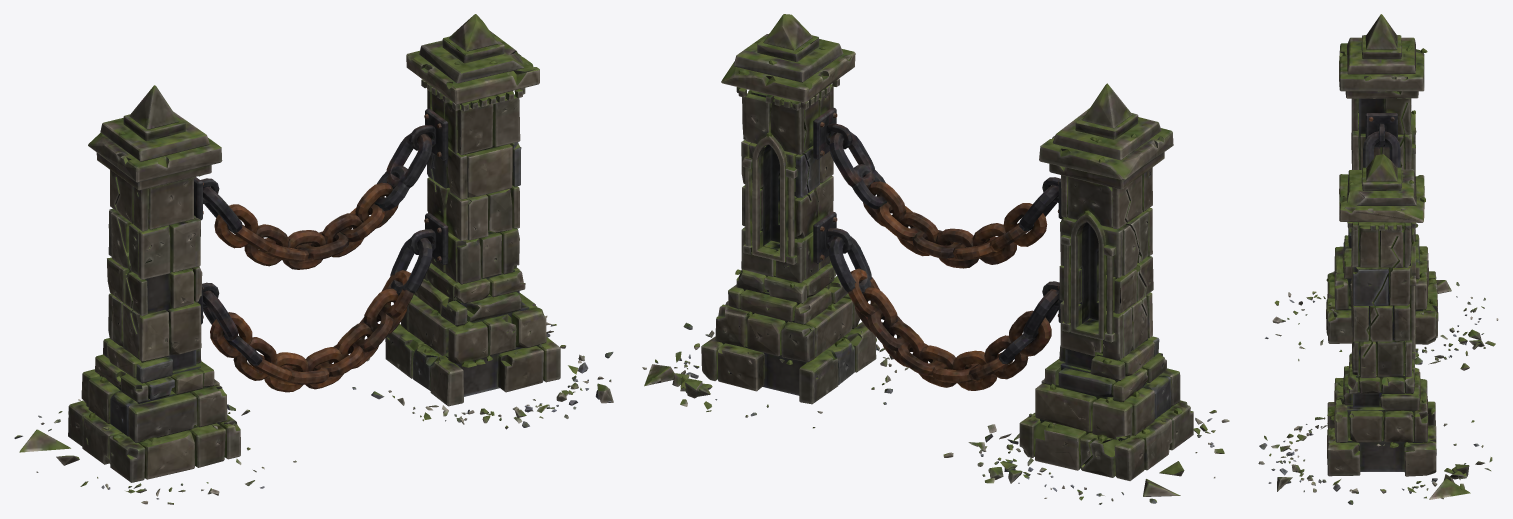
The model's file is SM_Cripta_ColunaCorrente.glb.
The picture shows the model from 3 angles, left to right: view 1: azimuth 30°, elevation 25°; view 2: azimuth 150°, elevation 25°; view 3: azimuth 270°, elevation 25°; orthographic projection. The views are drawn at different scales.
Visible parts, largest first — view 1: SM_Cripta_ColunaCorrente; view 2: SM_Cripta_ColunaCorrente; view 3: SM_Cripta_ColunaCorrente.
Boxes of the visible parts, x1,y1,x2,y2 form: SM_Cripta_ColunaCorrente: [14, 14, 613, 504]; SM_Cripta_ColunaCorrente: [642, 14, 1229, 504]; SM_Cripta_ColunaCorrente: [1258, 14, 1498, 504].
Bounding box in the file's own units: 5.56 × 3.55 × 2.46.
Materials: 1 (1 with a texture image).
